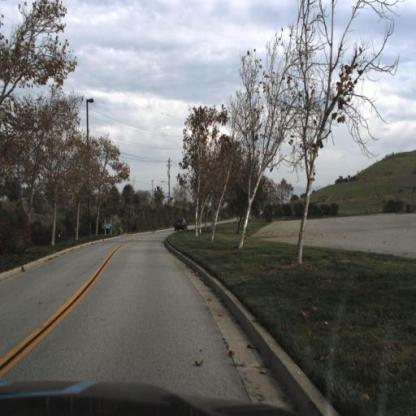car: (174, 216, 191, 235)
